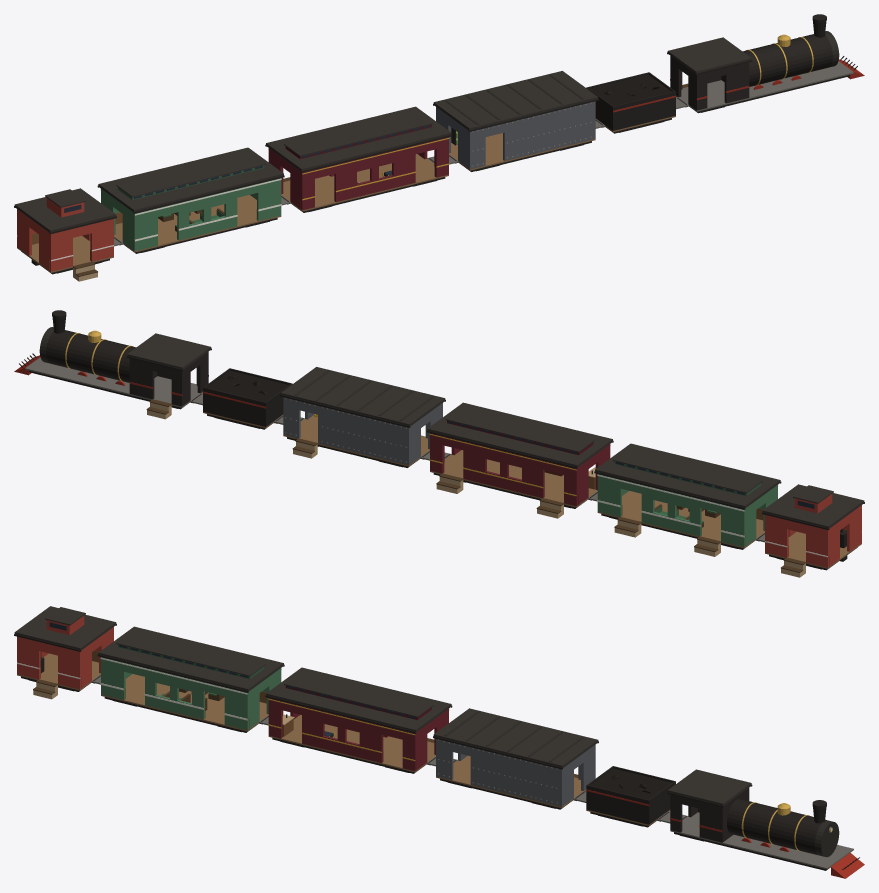
Rendered from expresso_trem.glb.
3 views of the same model, one above another, from view 1: azimuth 30°, elevation 25°; view 2: azimuth 150°, elevation 25°; view 3: azimuth 330°, elevation 25° (orthographic).
Visible parts, largest first — view 1: map_car_roof.001, map_iron_t.001, map_wood.001, map_car_5d6066.001, map_car_6e2a32.001, map_car_4f7a5a.001, map_car_a8453a.001, map_car_2e2a28.001, map_plate.001, map_coal.001, map_steel_d.001, map_glass.001 (+1 smaller); view 2: map_car_roof.001, map_iron_t.001, map_car_5d6066.001, map_car_6e2a32.001, map_car_4f7a5a.001, map_wood.001, map_car_a8453a.001, map_car_2e2a28.001, map_plate.001, map_wood_light.001, map_wood_dark.001, map_coal.001 (+3 smaller); view 3: map_car_roof.001, map_iron_t.001, map_car_5d6066.001, map_car_6e2a32.001, map_wood.001, map_car_4f7a5a.001, map_car_a8453a.001, map_plate.001, map_car_2e2a28.001, map_steel_d.001, map_coal.001, map_loco_red.001 (+2 smaller).
Boxes of the visible parts, x1,y1,x2,y2 form: map_car_roof.001: [14, 37, 751, 232]; map_iron_t.001: [14, 14, 857, 274]; map_wood.001: [17, 116, 675, 272]; map_car_5d6066.001: [436, 101, 595, 169]; map_car_6e2a32.001: [268, 137, 448, 210]; map_car_4f7a5a.001: [101, 178, 281, 250]; map_car_a8453a.001: [17, 198, 113, 271]; map_car_2e2a28.001: [670, 56, 749, 110]; map_plate.001: [114, 61, 853, 246]; map_coal.001: [590, 74, 671, 105]; map_steel_d.001: [114, 31, 839, 242]; map_glass.001: [64, 125, 430, 212]; map_car_roof.001: [127, 333, 864, 528]; map_iron_t.001: [19, 310, 864, 570]; map_car_5d6066.001: [283, 397, 442, 465]; map_car_6e2a32.001: [430, 433, 610, 506]; map_car_4f7a5a.001: [597, 474, 777, 546]; map_wood.001: [203, 412, 861, 568]; map_car_a8453a.001: [765, 494, 861, 567]; map_car_2e2a28.001: [129, 352, 208, 406]; map_plate.001: [25, 357, 764, 542]; map_wood_light.001: [147, 402, 805, 577]; map_wood_dark.001: [146, 399, 805, 572]; map_coal.001: [207, 370, 288, 401]; map_car_roof.001: [14, 606, 751, 805]; map_iron_t.001: [14, 624, 859, 870]; map_car_5d6066.001: [436, 739, 595, 806]; map_car_6e2a32.001: [268, 698, 448, 770]; map_wood.001: [17, 653, 670, 825]; map_car_4f7a5a.001: [101, 657, 281, 730]; map_car_a8453a.001: [17, 615, 113, 689]; map_plate.001: [91, 674, 853, 869]; map_car_2e2a28.001: [670, 788, 749, 842]; map_steel_d.001: [93, 675, 839, 857]; map_coal.001: [590, 768, 671, 799]; map_loco_red.001: [586, 789, 864, 878].
Size of the model in its own units: 78.58 by 5.9 by 7.63.
